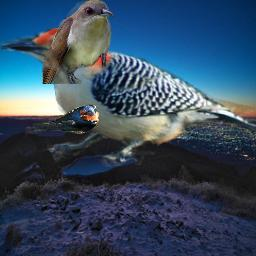Cuckoo: (42, 0, 114, 84)
Swallow: (25, 104, 99, 134)
Woodpecker: (1, 28, 255, 167)
